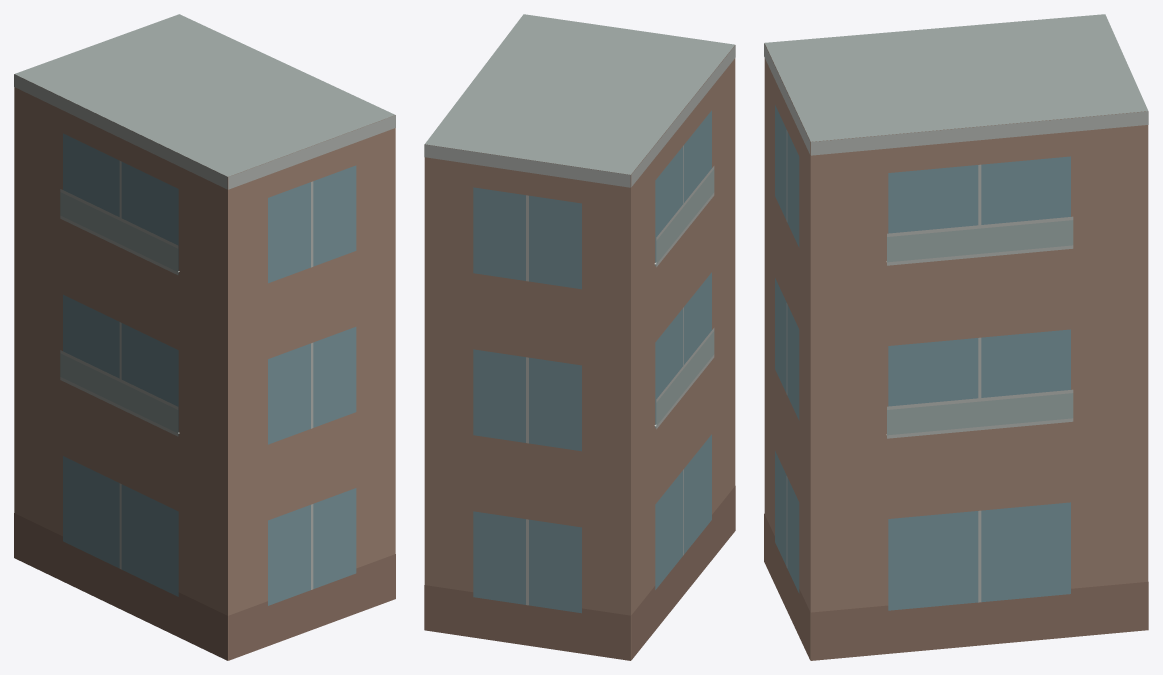
File: survey-upis-32651766.glb
3 views of the same model, side by side, from view 1: azimuth 30°, elevation 25°; view 2: azimuth 150°, elevation 25°; view 3: azimuth 270°, elevation 25° (orthographic). The views are drawn at different scales.
Visible parts, largest first — view 1: survey-upis-32651766.tmp; view 2: survey-upis-32651766.tmp; view 3: survey-upis-32651766.tmp.
Part boxes in pixels (x1,y1,x2,y2): survey-upis-32651766.tmp: (14, 14, 395, 660); survey-upis-32651766.tmp: (424, 14, 735, 660); survey-upis-32651766.tmp: (764, 14, 1148, 660).
Bounding box in the file's own units: 4.84 × 9.15 × 6.15.
